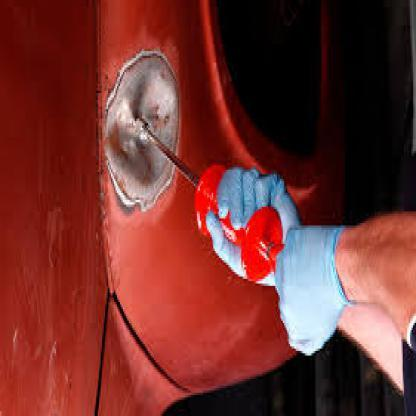dent: (104, 45, 186, 220)
